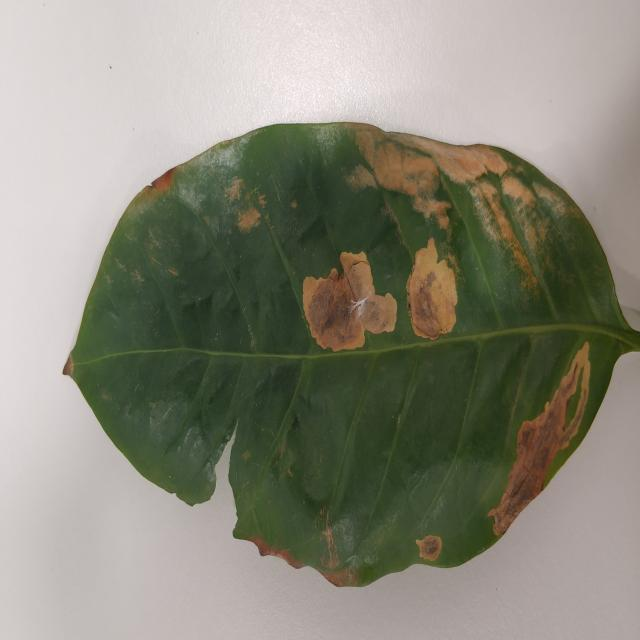Plaga-Minador: (62, 121, 640, 592)
